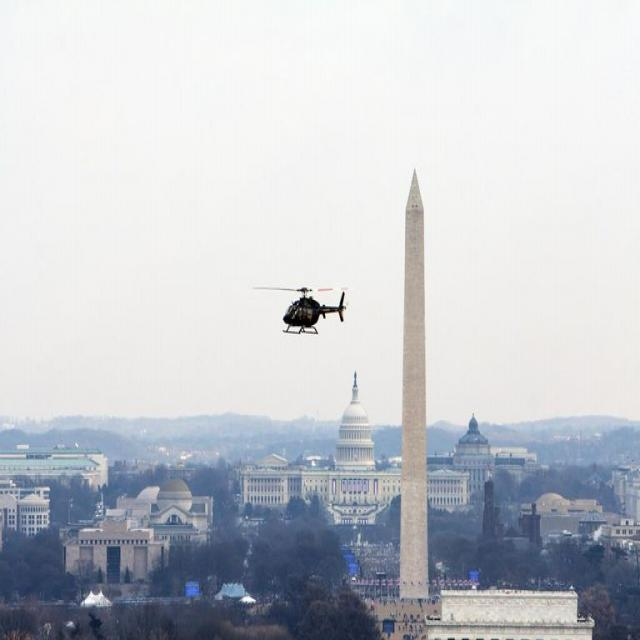helicopter: (251, 287, 353, 337)
